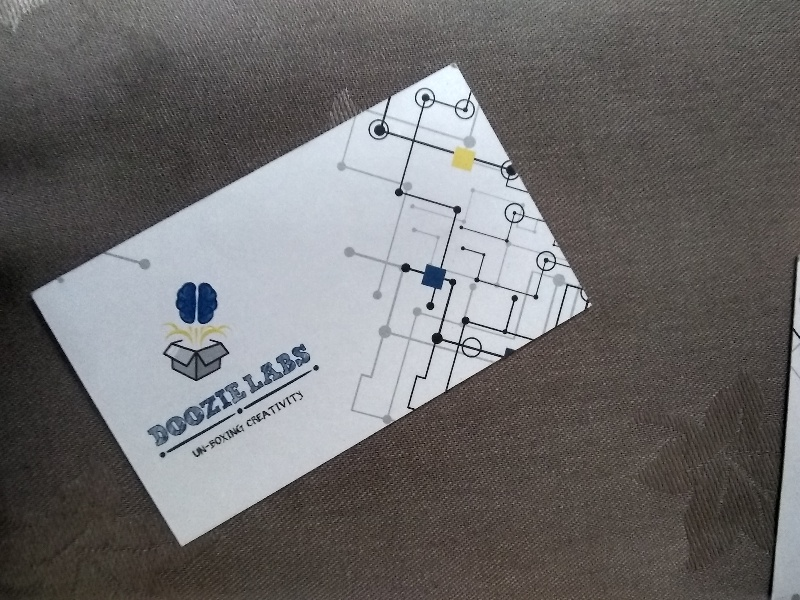back: (27, 56, 600, 550)
